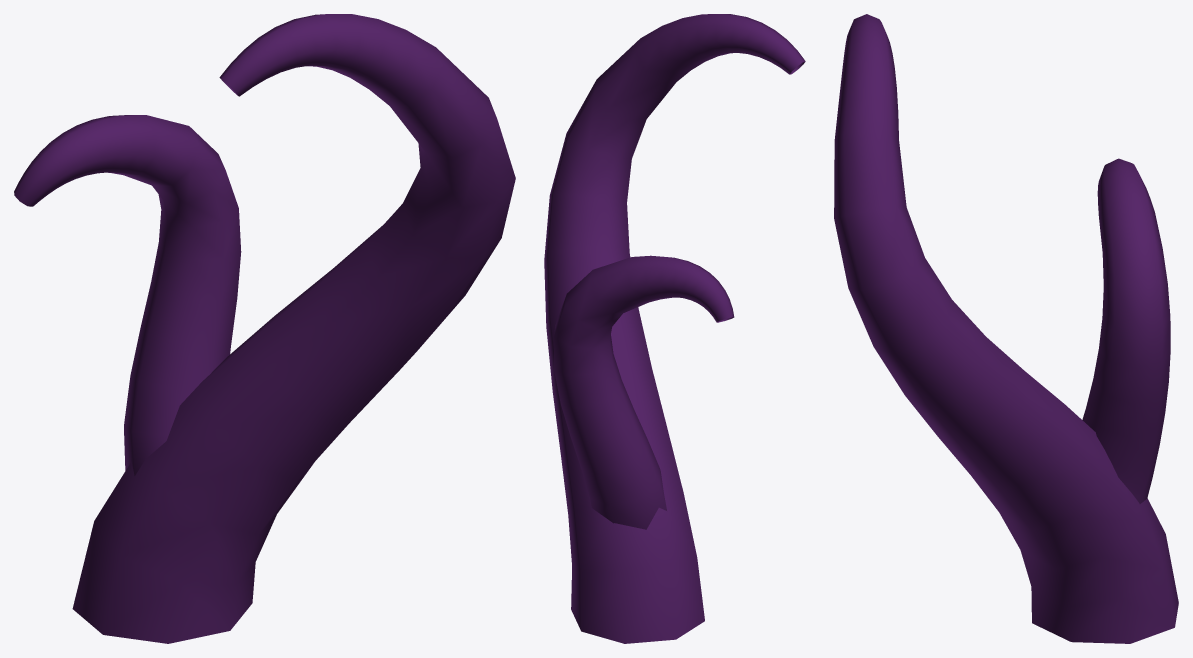
File: arrel.glb
The picture shows the model from 3 angles, left to right: view 1: azimuth 30°, elevation 25°; view 2: azimuth 150°, elevation 25°; view 3: azimuth 270°, elevation 25°; orthographic projection. The views are drawn at different scales.
Parts seen in each view (by area): view 1: Arrel; view 2: Arrel; view 3: Arrel.
Part boxes in pixels (left/top/right/bottom): Arrel: left=14, top=14, right=515, bottom=643; Arrel: left=544, top=14, right=805, bottom=643; Arrel: left=834, top=14, right=1178, bottom=643.
Size of the model in its own units: 1.16 by 2.12 by 1.12.
